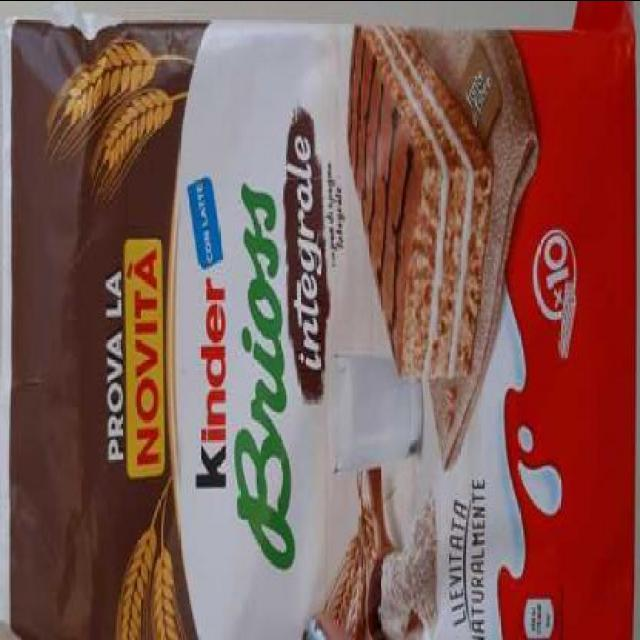Merendine: (9, 7, 636, 636)
